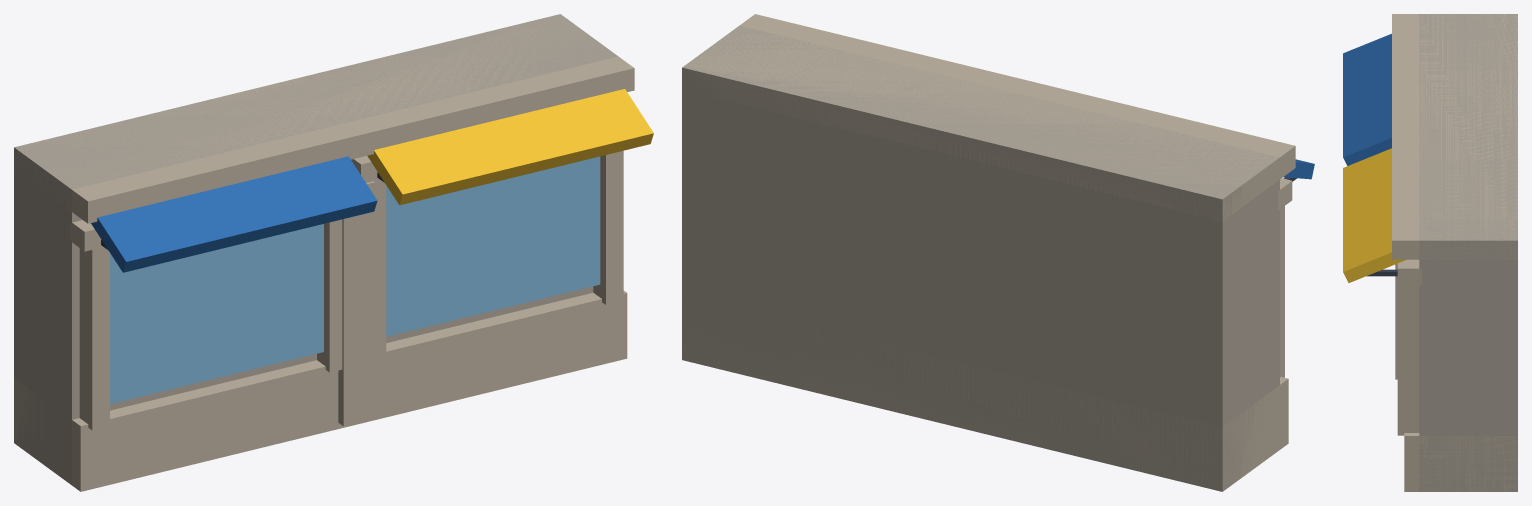
The model's file is cittaTortoraBaseB.glb.
3 renders of one model, left to right at view 1: azimuth 30°, elevation 25°; view 2: azimuth 150°, elevation 25°; view 3: azimuth 270°, elevation 25°, orthographic. The views are drawn at different scales.
Parts seen in each view (by area): view 1: cittaTortoraBaseB_stone, cittaTortoraBaseB_glass, cittaTortoraBaseB_cittaTortora, cittaTortoraBaseB_blue, cittaTortoraBaseB_yellow; view 2: cittaTortoraBaseB_cittaTortora, cittaTortoraBaseB_stone; view 3: cittaTortoraBaseB_cittaTortora, cittaTortoraBaseB_stone, cittaTortoraBaseB_yellow, cittaTortoraBaseB_blue.
Part boxes in pixels (box(x1,y1,x2,y2)): cittaTortoraBaseB_stone: box(14, 14, 634, 491); cittaTortoraBaseB_glass: box(110, 156, 600, 403); cittaTortoraBaseB_cittaTortora: box(14, 14, 617, 485); cittaTortoraBaseB_blue: box(91, 156, 377, 272); cittaTortoraBaseB_yellow: box(367, 89, 653, 205); cittaTortoraBaseB_cittaTortora: box(682, 25, 1279, 491); cittaTortoraBaseB_stone: box(682, 14, 1295, 491); cittaTortoraBaseB_cittaTortora: box(1419, 14, 1517, 491); cittaTortoraBaseB_stone: box(1392, 14, 1517, 491); cittaTortoraBaseB_yellow: box(1343, 148, 1406, 282); cittaTortoraBaseB_blue: box(1343, 33, 1391, 165).
Size of the model in its own units: 8.7 by 4.5 by 2.84.
